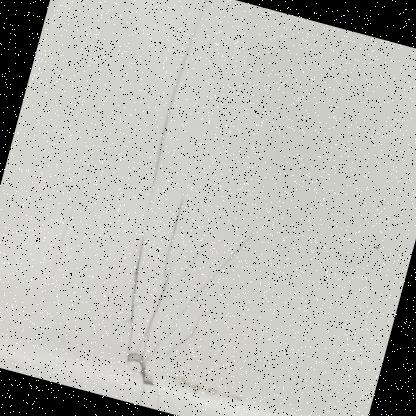Crack: (48, 0, 346, 415)
